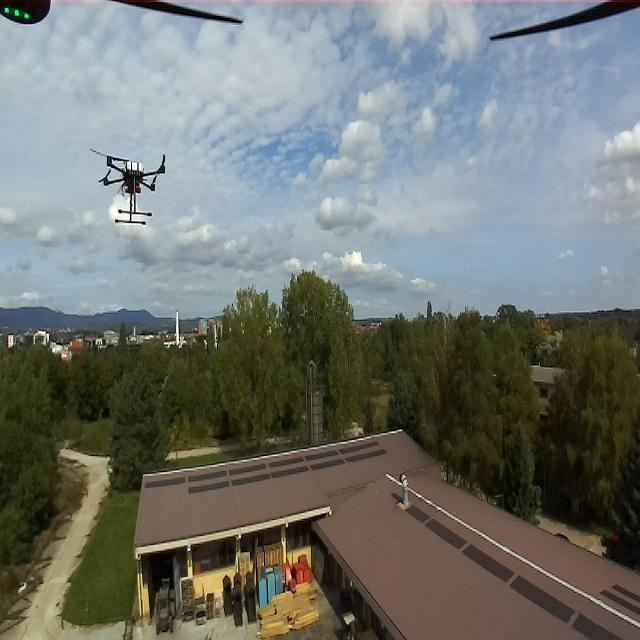UAV: (94, 137, 170, 228)
